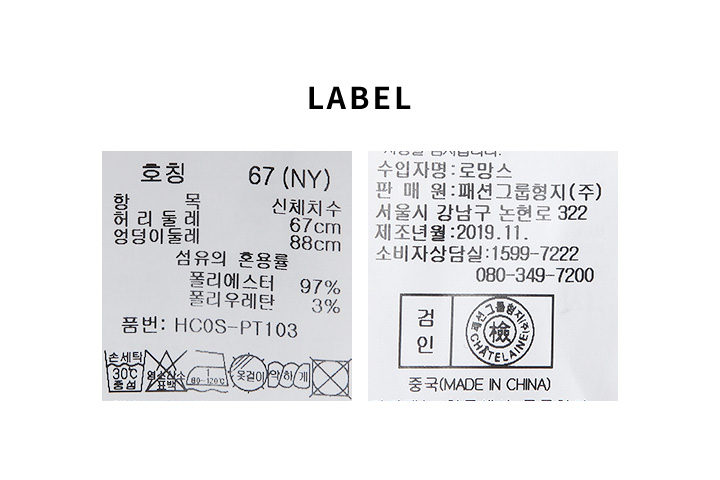KR_gentle_wring: (267, 354, 312, 392)
KR_hand_wash_30_neutral: (103, 349, 145, 394)
KR_hang_dry_in_shade: (227, 351, 268, 393)
KR_iron_low_temp_with_cloth: (186, 347, 229, 394)
KR_no_bleach: (145, 350, 185, 395)
KR_no_tumble_dry: (310, 357, 350, 396)
